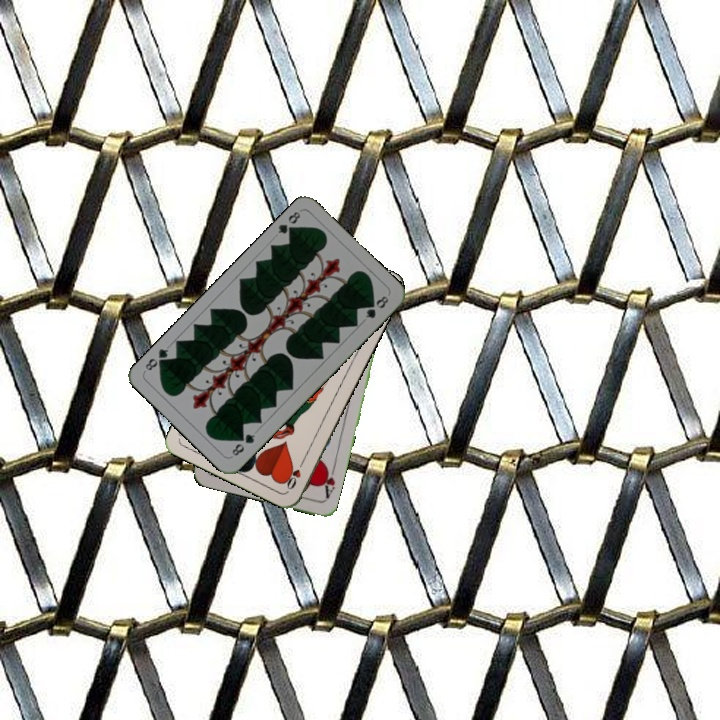G8: (273, 207, 303, 239), (228, 429, 258, 459)
HA: (318, 462, 338, 501)
HO: (282, 455, 307, 493)
